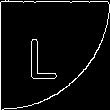L_N: (39, 29, 71, 81)
